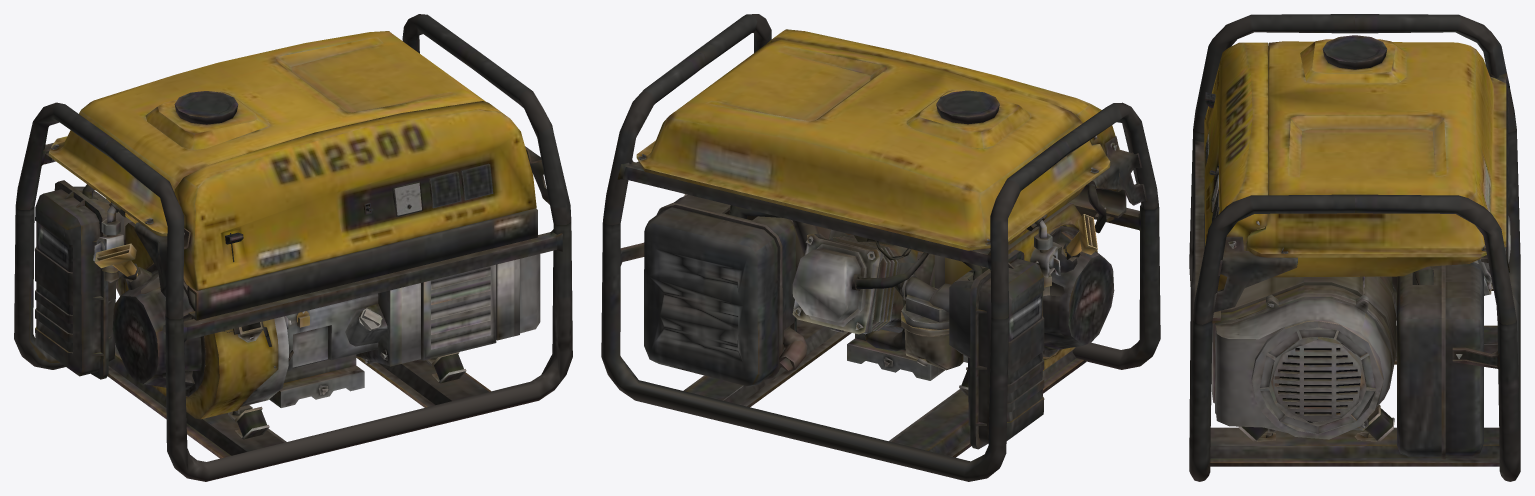
Rendered from portable_generator.glb.
The picture shows the model from 3 angles, left to right: view 1: azimuth 30°, elevation 25°; view 2: azimuth 150°, elevation 25°; view 3: azimuth 270°, elevation 25°; orthographic projection.
Parts seen in each view (by area): view 1: portable_generator; view 2: portable_generator; view 3: portable_generator.
Boxes of the visible parts, <box> form: portable_generator: <box>14,14,572,481</box>; portable_generator: <box>601,14,1160,481</box>; portable_generator: <box>1189,14,1520,481</box>.
Size of the model in its own units: 0.8169 by 0.5752 by 0.564.
Materials: 2 (2 with a texture image).
